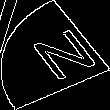N_SE: (14, 23, 96, 87)
